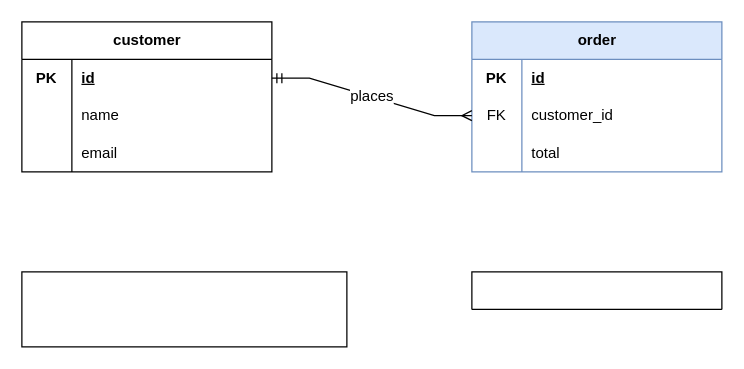
Some shapes in this 744 by 369 pixel diagram are drawn without their labels. Here are the shapes that lost their labels. From the top down, the centre of each, then its label:
the point at 184,309: A UserObject cell with & entities and a div line
the point at 596,290: collapsed group
